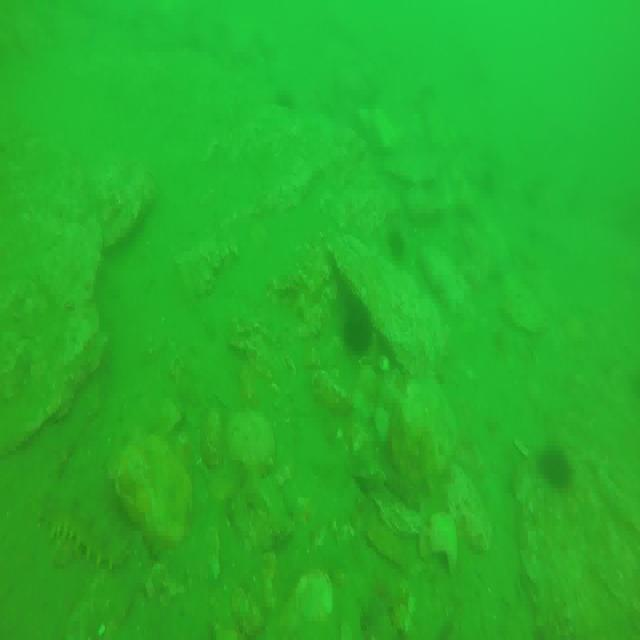echinus: (544, 440, 574, 495), (344, 303, 372, 355)
holothurian: (42, 488, 127, 574)
